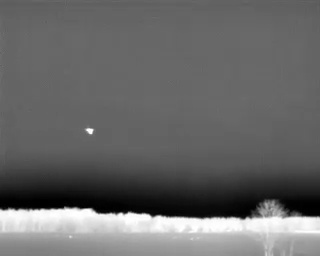BIRD: (83, 124, 97, 139)
